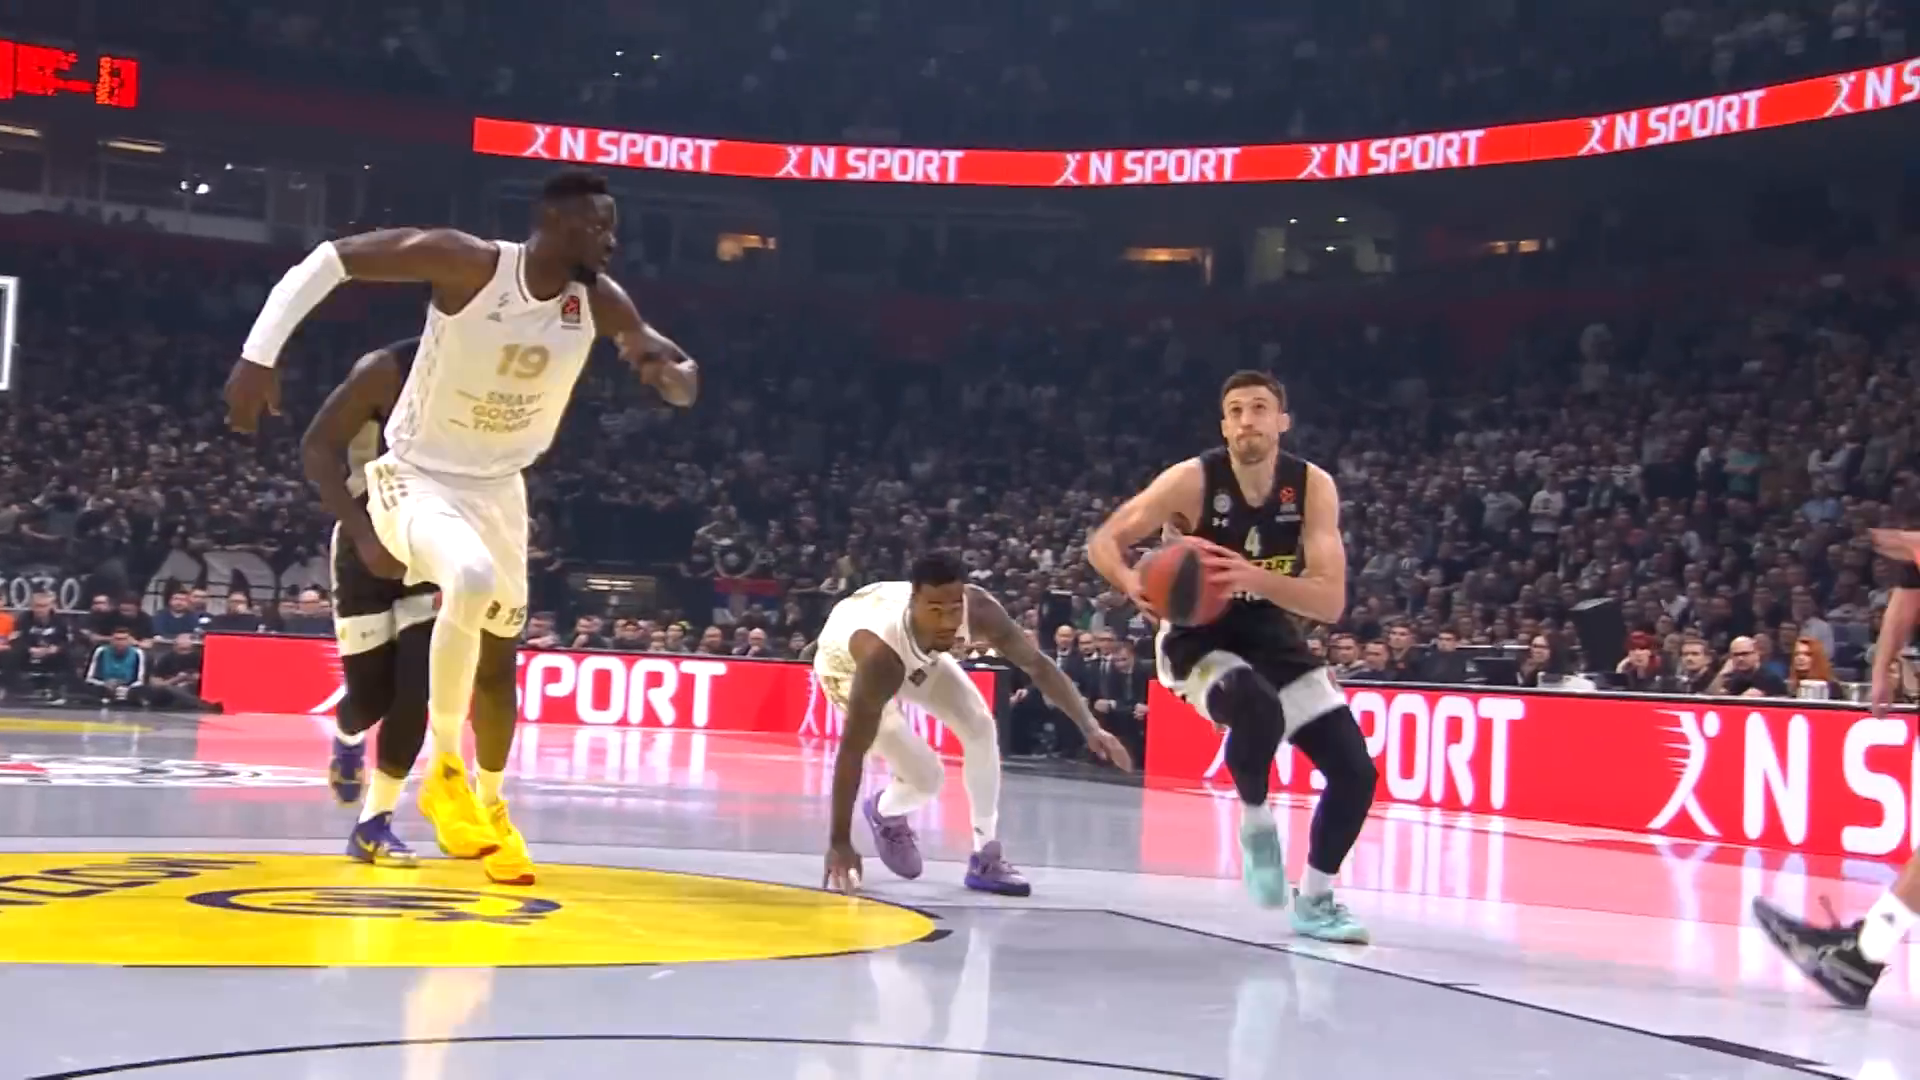ball: (1127, 535, 1247, 630)
